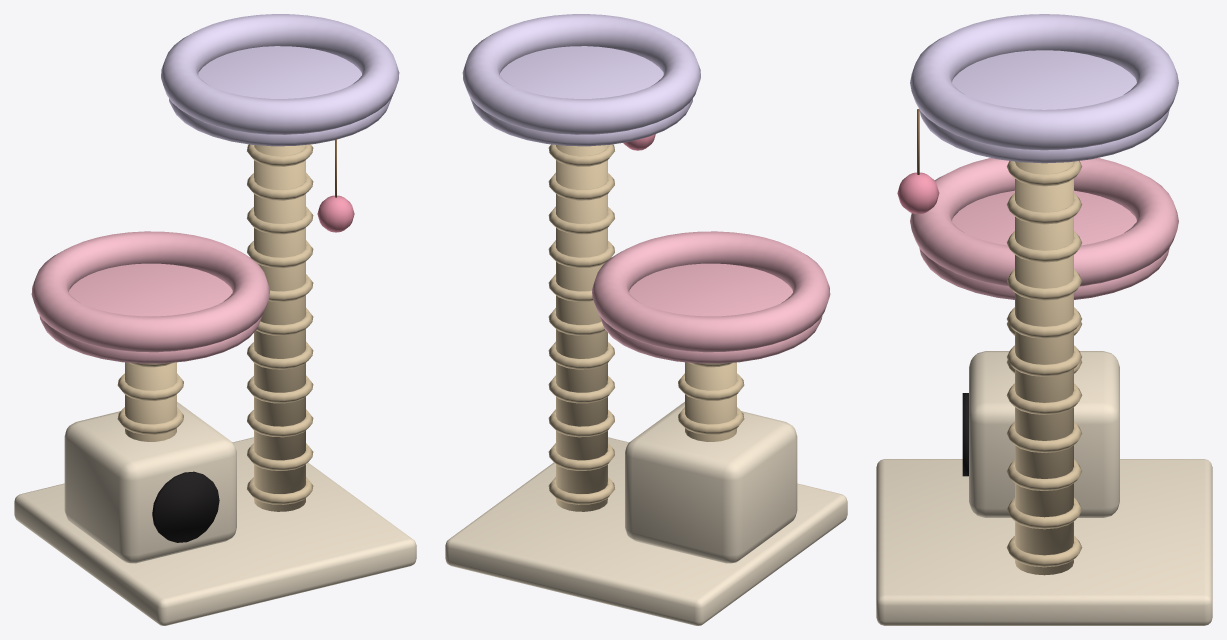
File: furn_cattower.glb
3 renders of one model, left to right at view 1: azimuth 30°, elevation 25°; view 2: azimuth 150°, elevation 25°; view 3: azimuth 270°, elevation 25°, orthographic. The views are drawn at different scales.
Visible parts, largest first — view 1: Cube; view 2: Cube; view 3: Cube.
Boxes of the visible parts, x1,y1,x2,y2 form: Cube: (14,14,416,625); Cube: (445,14,847,625); Cube: (876,14,1212,625).
Bounding box in the file's own units: 1.04 × 1.39 × 0.8.
